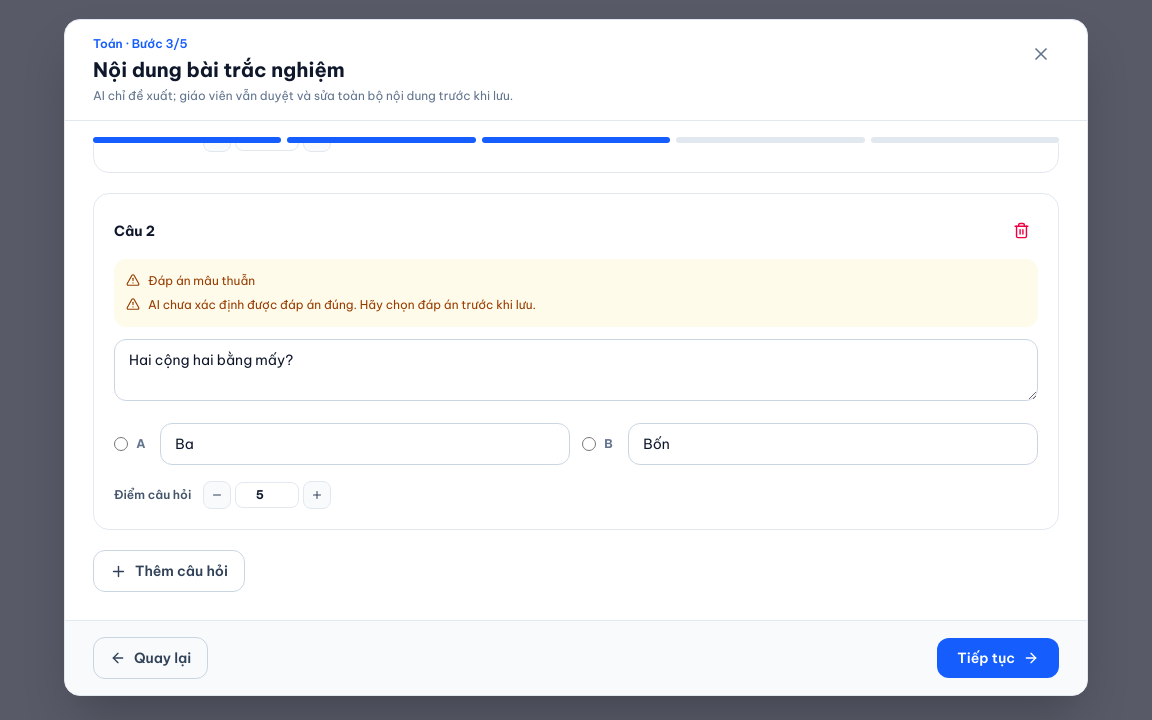
Test: chọn đúng đáp án API ghép từ bảng và để giảng viên xử lý câu mâu thuẫn
Earlier steps of the test are not shown.
(page scrolled)
Click the radio button named "Đáp án đúng A câu 2".
click(121, 444)  # box [114,436,128,452]
(page scrolled)
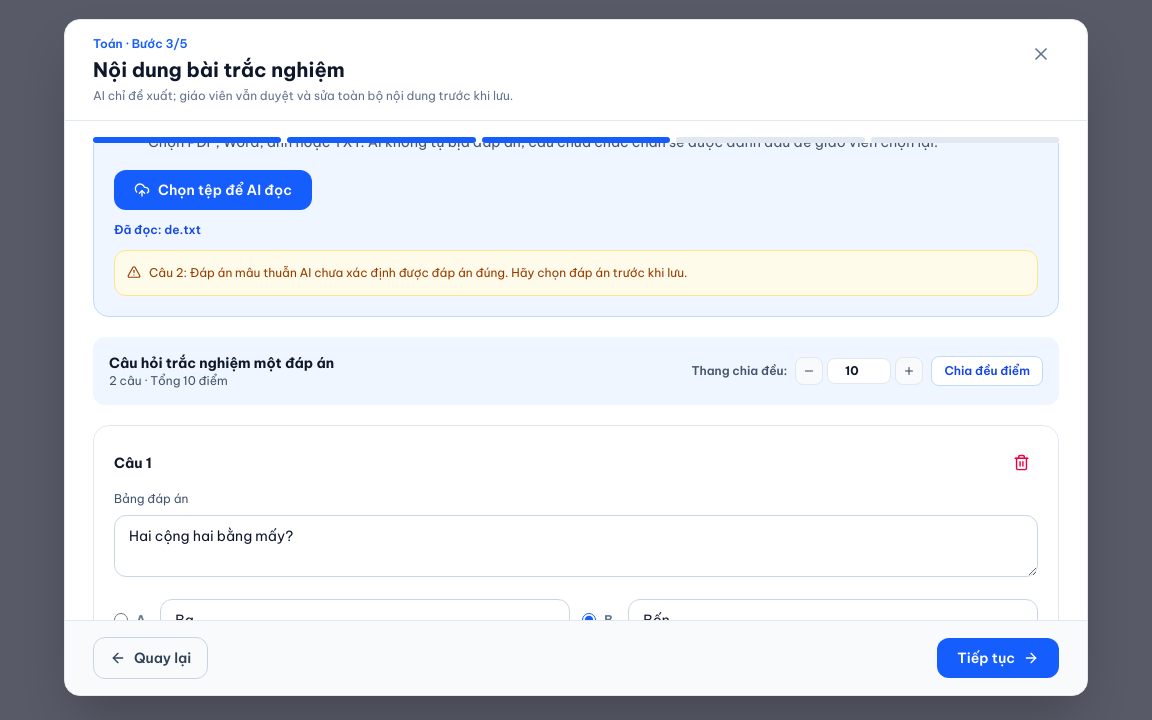
Expected: the text "2 câu · Tổng 10 điểm" is shown, [109,373,228,388]
